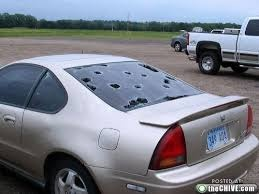Broken-glass: (71, 63, 188, 105)
